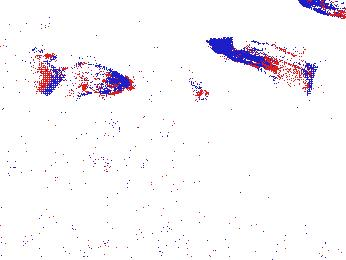glassfish: (81, 148, 188, 201)
red belly glassfish: (189, 71, 211, 102), (24, 46, 58, 64)
redtail glassfish: (213, 38, 324, 94), (39, 59, 133, 97), (295, 1, 346, 21)
